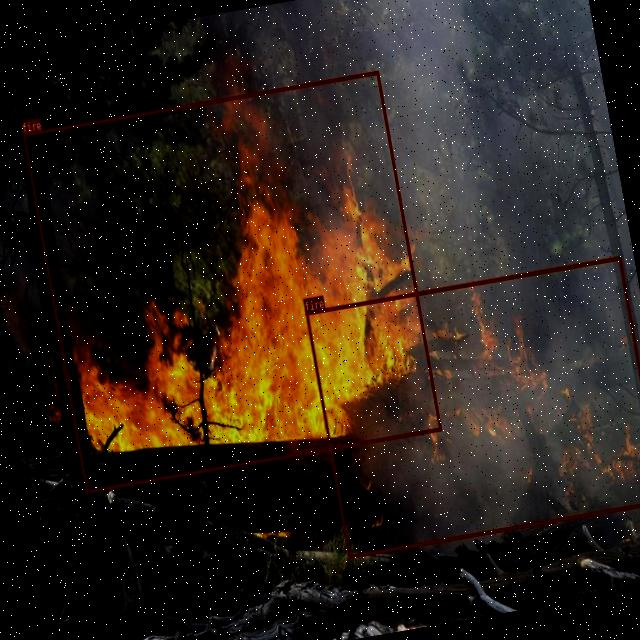fire: (21, 70, 442, 492), (304, 255, 640, 558)
